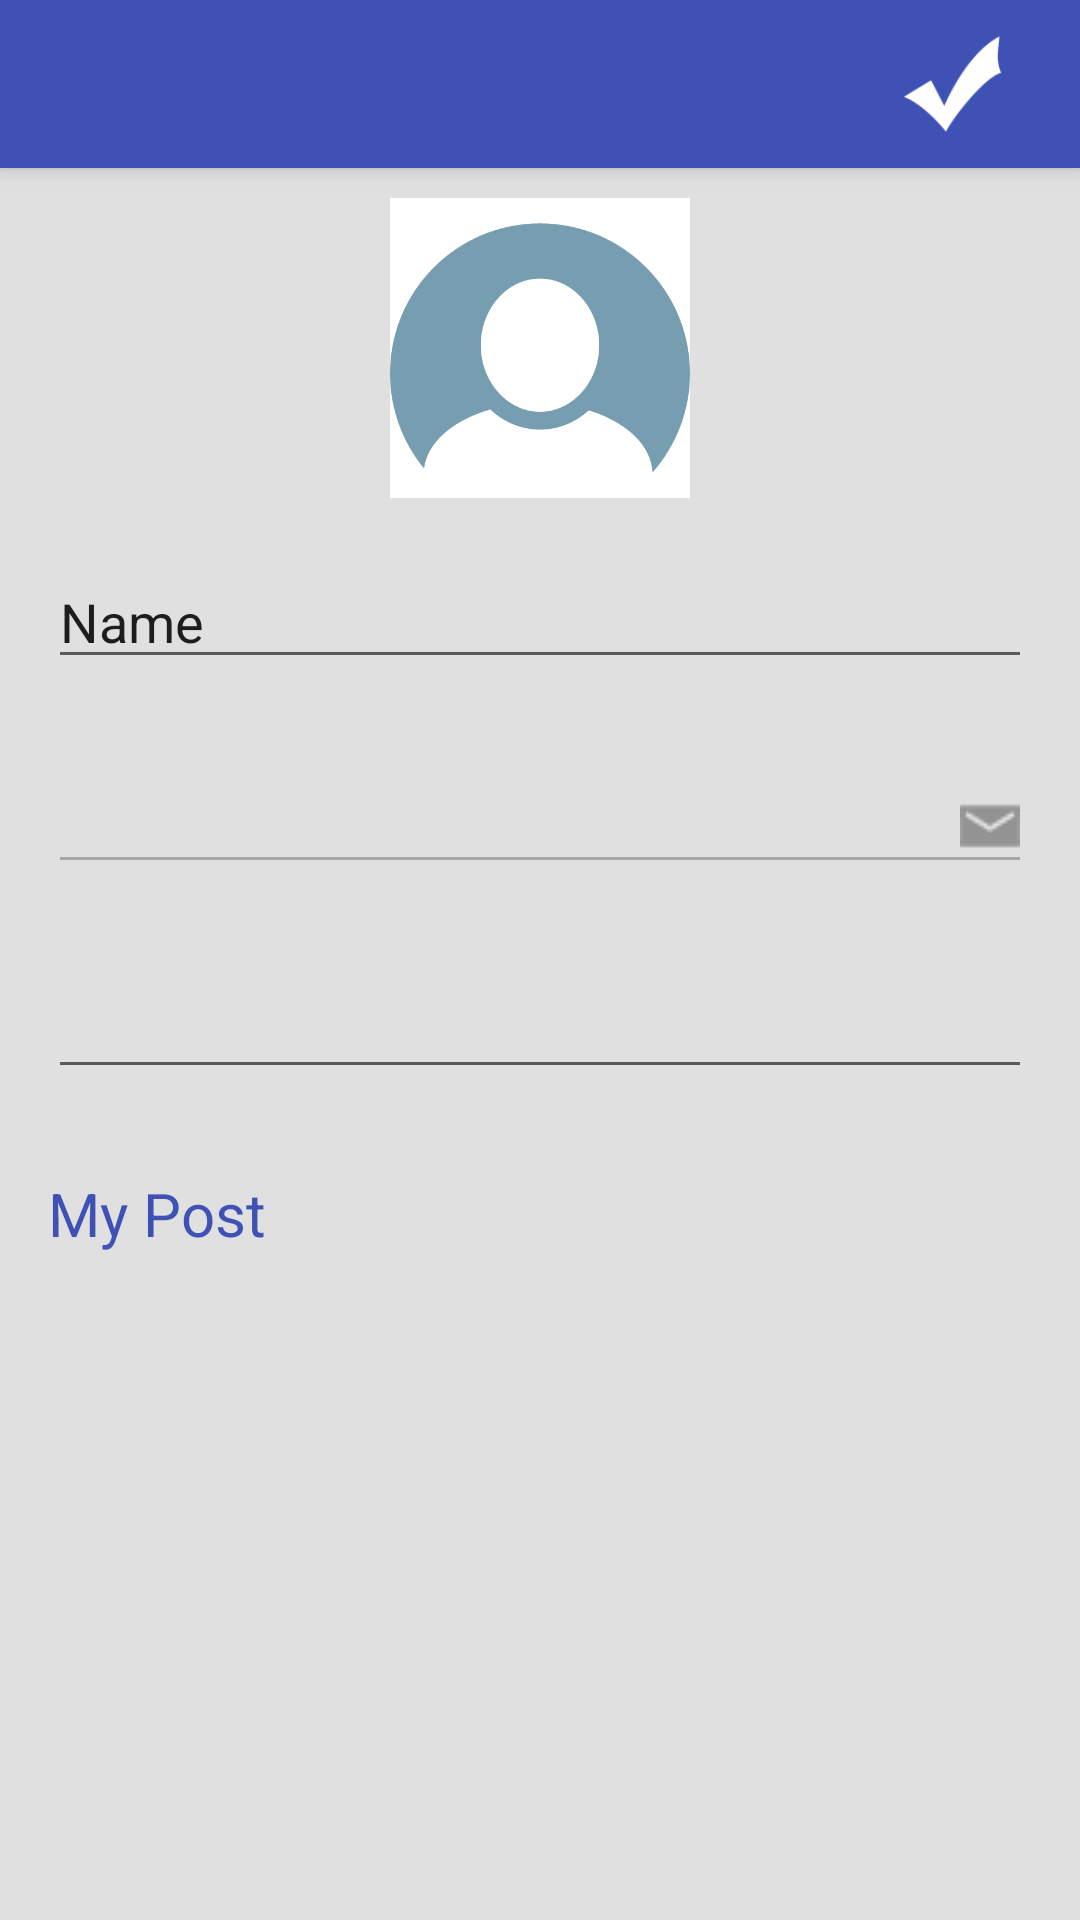

Point at icon controls on the screen. Image size 1080×1920, points as point (x, y).
tick: point (952, 84)
user: point (540, 348)
